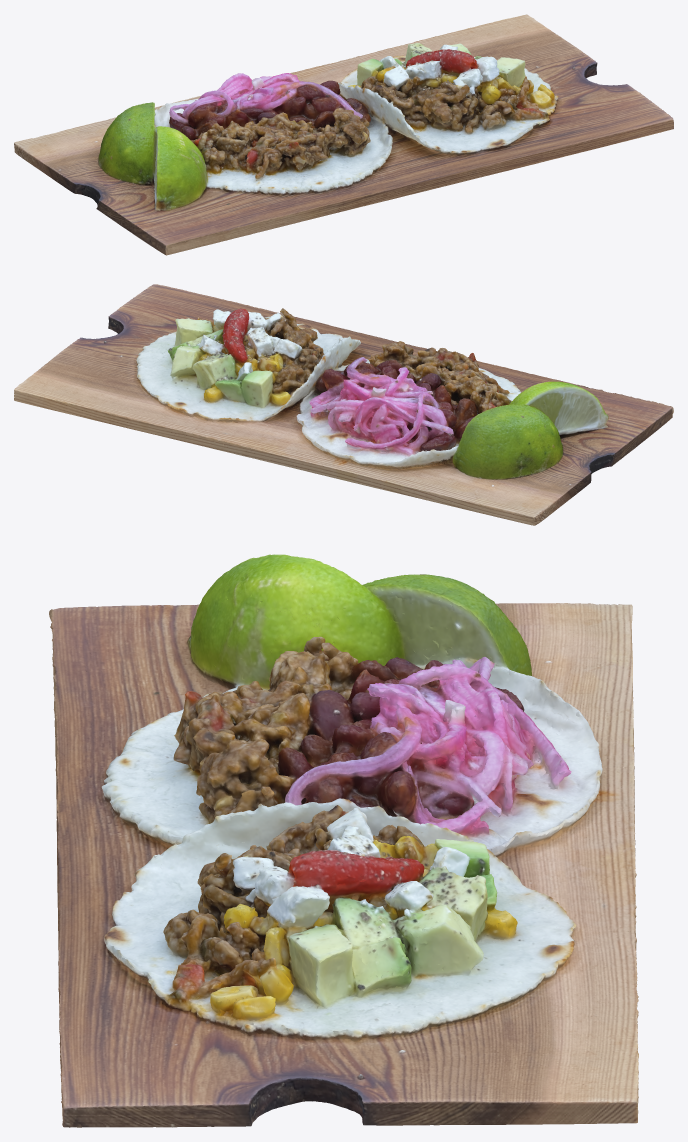
File: mexican_food_taco_love.glb
3 views of the same model, one above another, from view 1: azimuth 30°, elevation 25°; view 2: azimuth 150°, elevation 25°; view 3: azimuth 270°, elevation 25° (orthographic). The views are drawn at different scales.
Visible parts, largest first — view 1: Object_3, Object_2, Object_4; view 2: Object_2, Object_3, Object_4; view 3: Object_2, Object_3, Object_4.
Part boxes in pixels (<box>): Object_3: <box>31,45,500,230</box>; Object_2: <box>172,20,673,179</box>; Object_4: <box>14,14,666,255</box>; Object_2: <box>41,284,417,492</box>; Object_3: <box>129,332,624,510</box>; Object_4: <box>14,289,673,525</box>; Object_2: <box>58,674,638,1127</box>; Object_3: <box>53,554,637,998</box>; Object_4: <box>49,554,638,1127</box>.
Bounding box in the file's own units: 0.547 × 0.0658 × 0.2691.
Materials: 1 (1 with a texture image).
